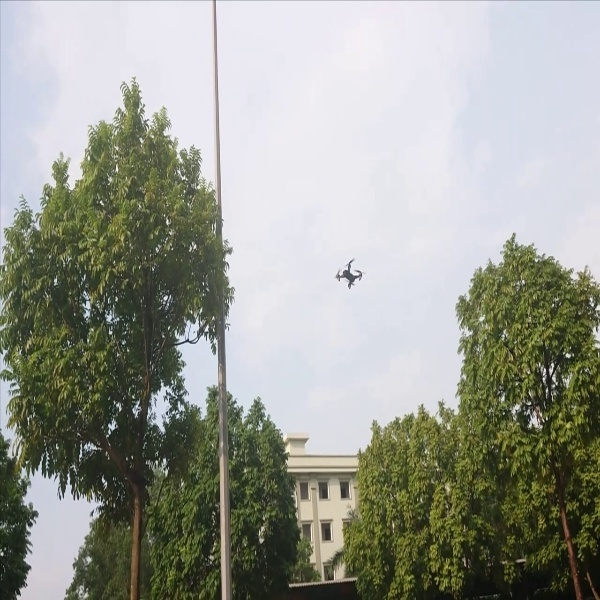drone: (329, 251, 367, 296)
